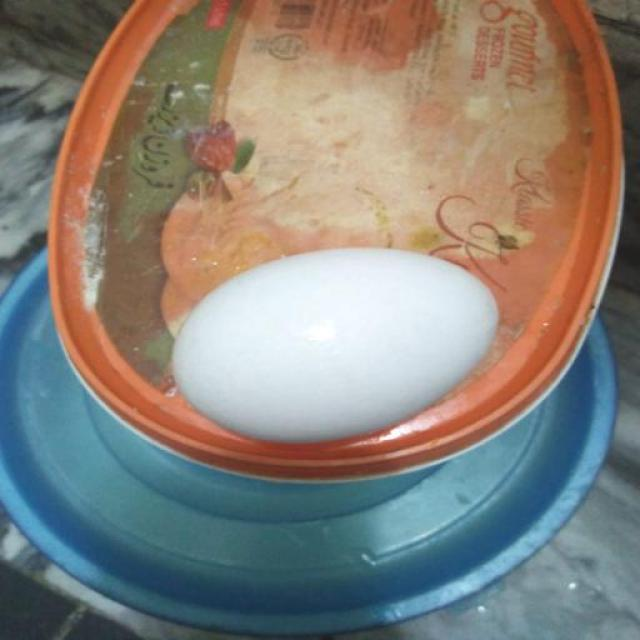telur: (174, 246, 494, 443)
